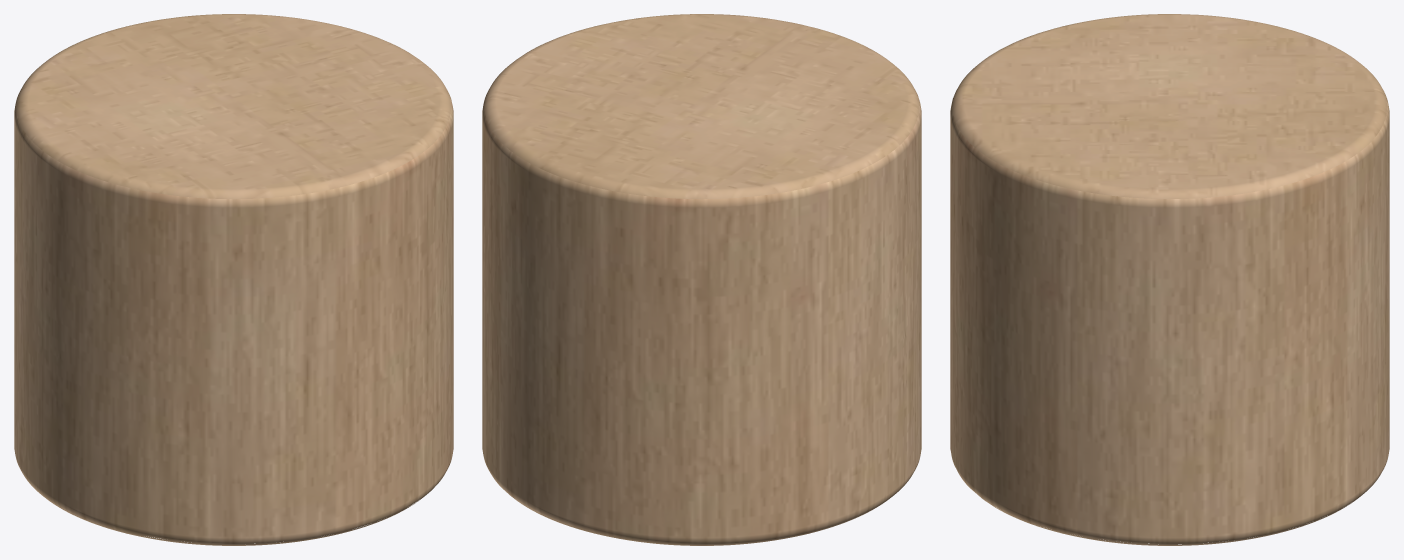
Rendered from cylindra_pesec_bily.glb.
3 views of the same model, side by side, from view 1: azimuth 30°, elevation 25°; view 2: azimuth 150°, elevation 25°; view 3: azimuth 270°, elevation 25° (orthographic).
Parts seen in each view (by area): view 1: Cylindra_Pěšec_bílý; view 2: Cylindra_Pěšec_bílý; view 3: Cylindra_Pěšec_bílý.
Part boxes in pixels (x1,y1,x2,y2): Cylindra_Pěšec_bílý: [14, 14, 453, 545]; Cylindra_Pěšec_bílý: [482, 14, 921, 545]; Cylindra_Pěšec_bílý: [950, 14, 1389, 545].
Size of the model in its own units: 0.028 by 0.025 by 0.028.
Materials: 2 (2 with a texture image).
